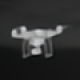plane: (8, 23, 72, 61)
